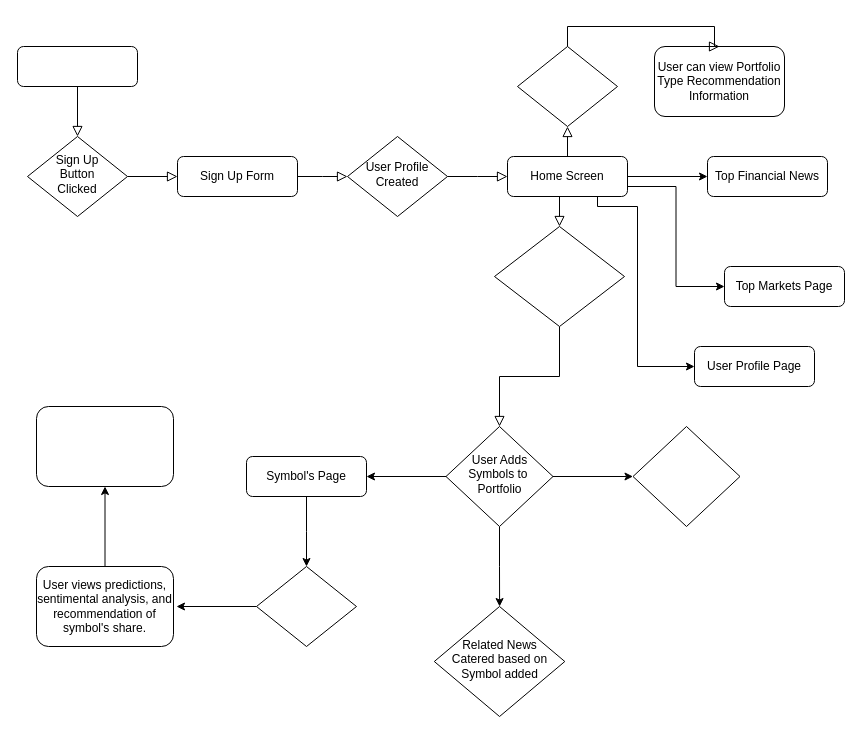
Image size: 862x734. Some labels were removed from this diagram. The centre of each missing label's shape, as x and y in pixels:
"Analysis Tab Clicked" belongs at (306,606).
"Can search any symbol via search bar" belongs at (559,276).
"Estimated earnings of today updated" belongs at (686,476).
"Find out more button clicked" belongs at (567,86).
"Information on what each section of the analysis tab means" belongs at (105,446).
"Landing Page" belongs at (77,66).
